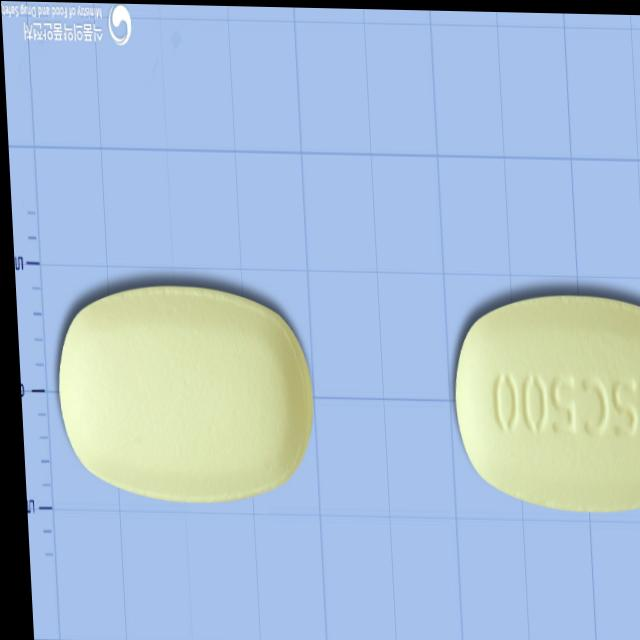Celltrion Levofloxacin: (47, 278, 313, 508), (445, 287, 640, 514)
